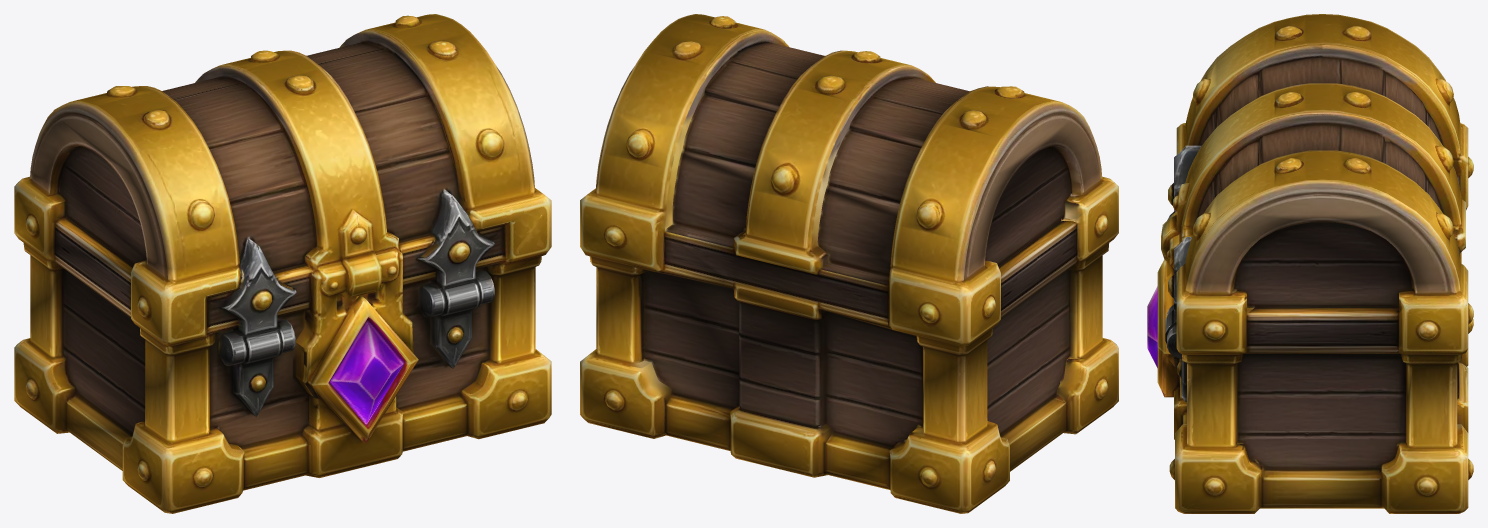
The model's file is castle-chest.glb.
3 renders of one model, left to right at view 1: azimuth 30°, elevation 25°; view 2: azimuth 150°, elevation 25°; view 3: azimuth 270°, elevation 25°, orthographic. The views are drawn at different scales.
Parts seen in each view (by area): view 1: mesh_rep_0_ori_repair; view 2: mesh_rep_0_ori_repair; view 3: mesh_rep_0_ori_repair.
Part boxes in pixels (left/top/right/bottom): mesh_rep_0_ori_repair: left=14, top=14, right=551, bottom=513; mesh_rep_0_ori_repair: left=580, top=14, right=1118, bottom=513; mesh_rep_0_ori_repair: left=1147, top=14, right=1473, bottom=513.
Bounding box in the file's own units: 0.8312 × 0.6959 × 0.6193.
Materials: 1 (1 with a texture image).
